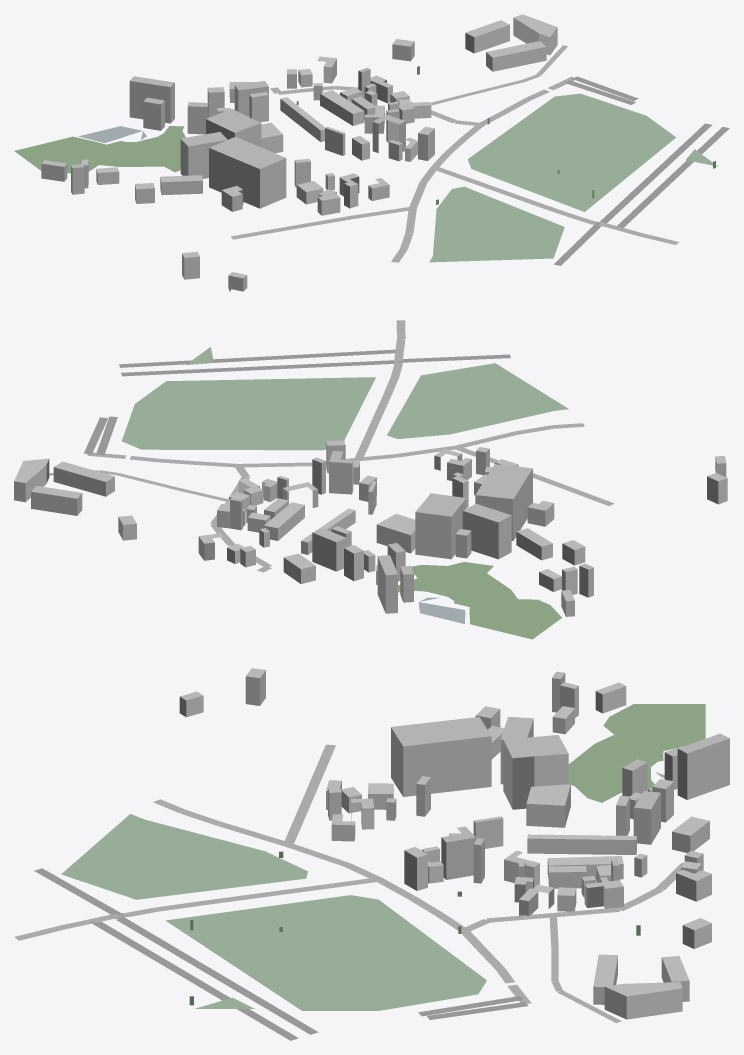
The picture shows the model from 3 angles, top to bottom: view 1: azimuth 30°, elevation 25°; view 2: azimuth 150°, elevation 25°; view 3: azimuth 270°, elevation 25°; orthographic projection. The views are drawn at different scales.
Bounding box in the file's own units: 556 × 40.82 × 481.
